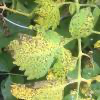Tomato leaf bacterial spot: (3, 25, 65, 81), (6, 63, 76, 99), (29, 1, 61, 33), (67, 6, 95, 42), (52, 46, 78, 81)
